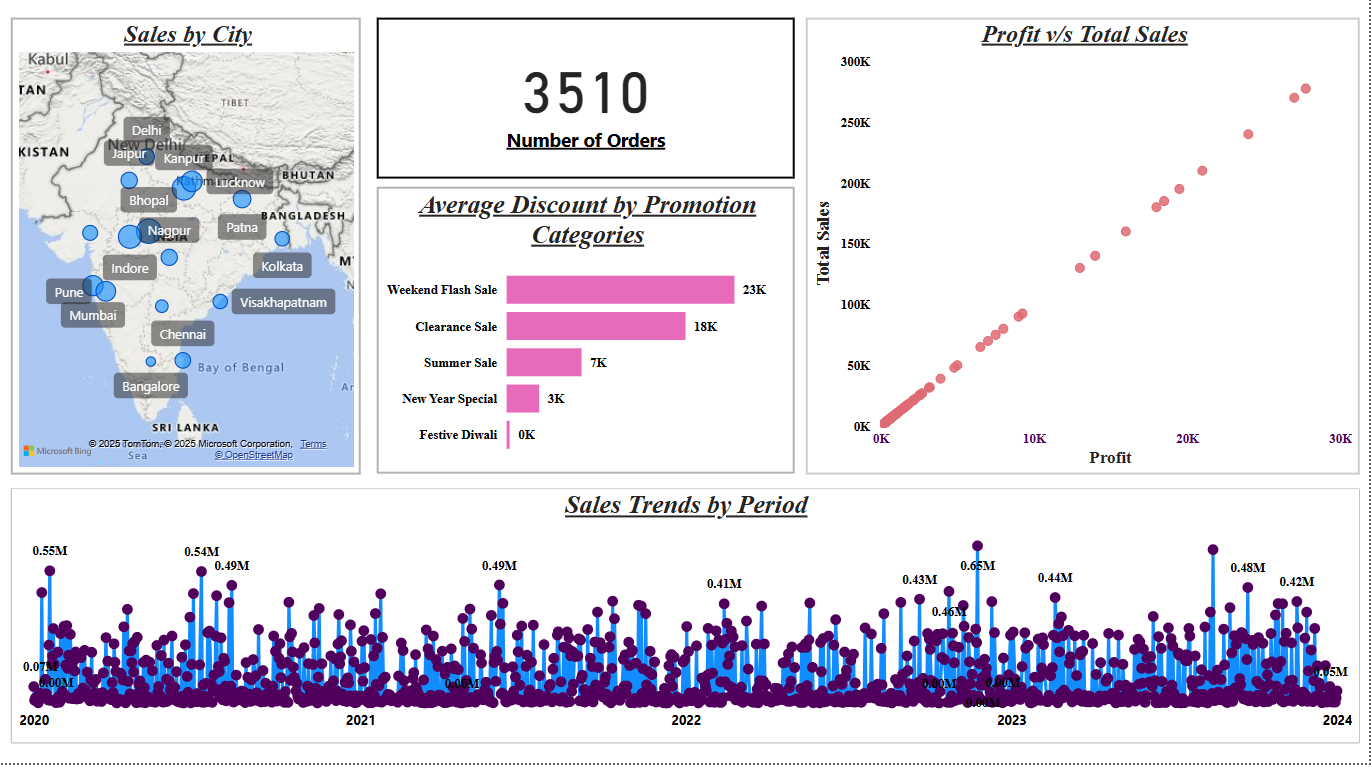

The page's visual inventory and layout, read from the dashboard file:
{"tool":"powerbi","page":{"name":"Overview","canvas":[1280,720],"ordinal":0},"visuals":[{"type":"lineChart","title":"Sales Trends by Period","fields":{"Category":["Fact Table.Date (dd/mm/yyyy).Variation.Date Hierarchy.Year"],"Y":["Sum(Fact Table.Net Sales)"]},"box":[10.7,462.7,1260.3,238.2],"z":0},{"type":"scatterChart","title":"Profit v/s Total Sales ","fields":{"Y":["Fact Table.Total Sales "],"X":["Fact Table.Profit"]},"box":[754,22.7,516.7,427.1],"z":1000},{"type":"barChart","title":"Average Discount by Promotion Categories","fields":{"Category":["Dim Promotion.Promotion Name"],"Y":["Avg(Fact Table.Discount)"]},"box":[352.7,181.2,390.5,267.5],"z":2000},{"type":"map","title":"Sales by City","fields":{"Category":["Dim Customers.City"],"Size":["Sum(Fact Table.Net Sales)"]},"box":[10.8,22.7,326.8,427.1],"z":3000},{"type":"card","fields":{"Values":["CountNonNull(Fact Table.Order ID)"]},"box":[352.7,22.7,390.5,151],"z":4000}]}

Visuals, with their boxes in screenshot pixels (x1, y1, x2, y2), scaled from the page's 1280x720 canvas onto the 1371x767 screenshot:
"Sales Trends by Period" lineChart: box=[11, 493, 1361, 747]
"Profit v/s Total Sales " scatterChart: box=[808, 24, 1361, 479]
"Average Discount by Promotion Categories" barChart: box=[378, 193, 796, 478]
"Sales by City" map: box=[12, 24, 362, 479]
card - CountNonNull(Fact Table.Order ID): box=[378, 24, 796, 185]
